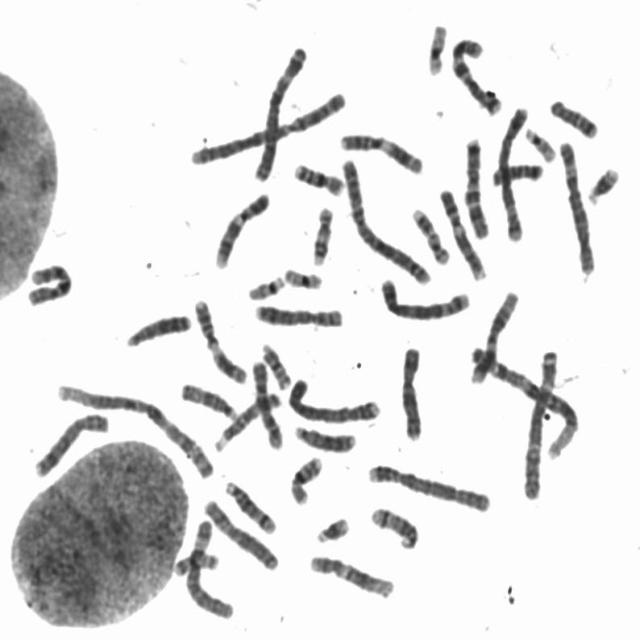A1: (51, 375, 220, 482), (466, 338, 584, 462)
A2: (186, 83, 350, 167), (337, 150, 435, 286)
A3: (250, 37, 312, 184), (519, 342, 563, 502)
B4: (364, 455, 496, 515), (284, 370, 386, 425)
B5: (496, 98, 532, 244), (376, 270, 476, 322)
C10: (247, 352, 287, 451), (22, 255, 76, 308)
C11: (190, 290, 252, 386), (334, 124, 429, 176)
C12: (466, 283, 523, 387), (305, 546, 399, 600)
C6: (555, 132, 600, 277), (182, 511, 240, 620)
C7: (447, 30, 506, 116), (461, 129, 494, 241)
C8: (30, 405, 113, 479), (250, 295, 348, 329)
C9: (210, 183, 274, 269), (435, 182, 490, 282)
D13: (123, 305, 195, 349), (290, 417, 360, 454)
D14: (221, 473, 280, 535), (367, 499, 423, 551)
D15: (210, 384, 286, 453), (176, 374, 242, 422)
E16: (290, 154, 348, 198), (286, 448, 327, 506)
E17: (408, 200, 454, 266), (308, 198, 338, 267)
E18: (546, 90, 603, 139), (488, 155, 548, 187)
F19: (424, 15, 452, 77), (280, 259, 327, 291)
F20: (170, 544, 223, 578), (260, 345, 294, 394)
G21: (583, 158, 624, 206), (312, 509, 354, 545)
G22: (522, 120, 560, 163), (244, 267, 290, 302)
X: (200, 492, 283, 572), (397, 337, 428, 443)
